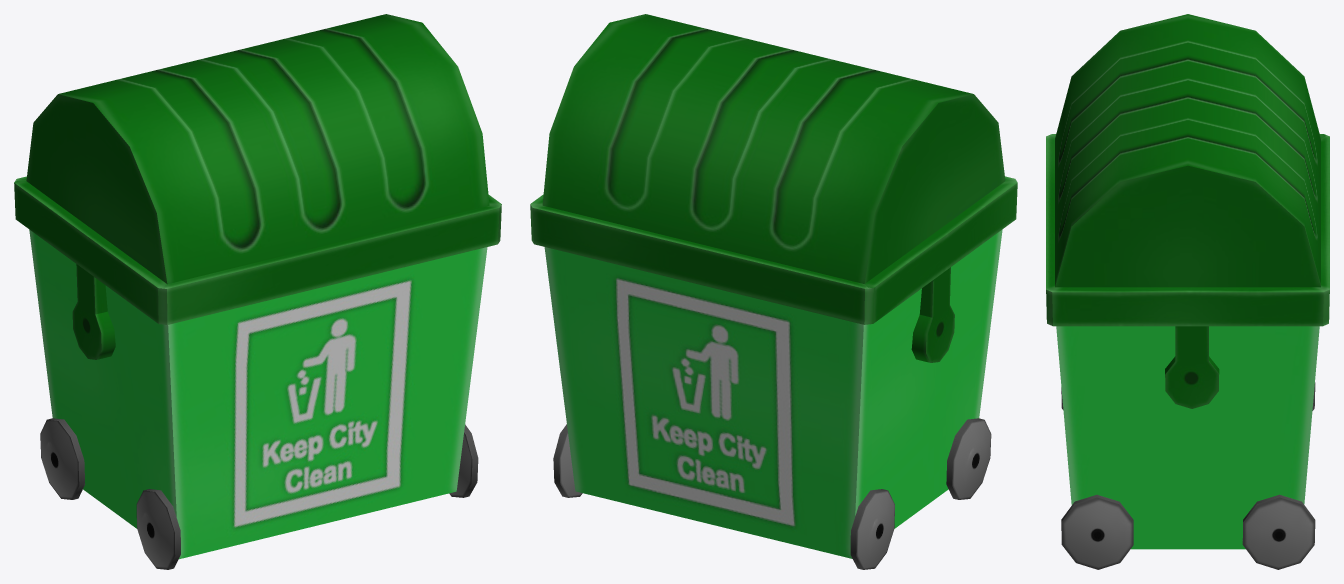
The model's file is dumpster.FBX.
The picture shows the model from 3 angles, left to right: view 1: azimuth 30°, elevation 25°; view 2: azimuth 150°, elevation 25°; view 3: azimuth 270°, elevation 25°; orthographic projection. The views are drawn at different scales.
Visible parts, largest first — view 1: Cylinder008; view 2: Cylinder008; view 3: Cylinder008.
Part boxes in pixels (left/top/right/bottom): Cylinder008: left=14, top=14, right=501, bottom=569; Cylinder008: left=530, top=14, right=1017, bottom=569; Cylinder008: left=1046, top=14, right=1329, bottom=569.
Bounding box in the file's own units: 81.46 × 98.42 × 61.73.
